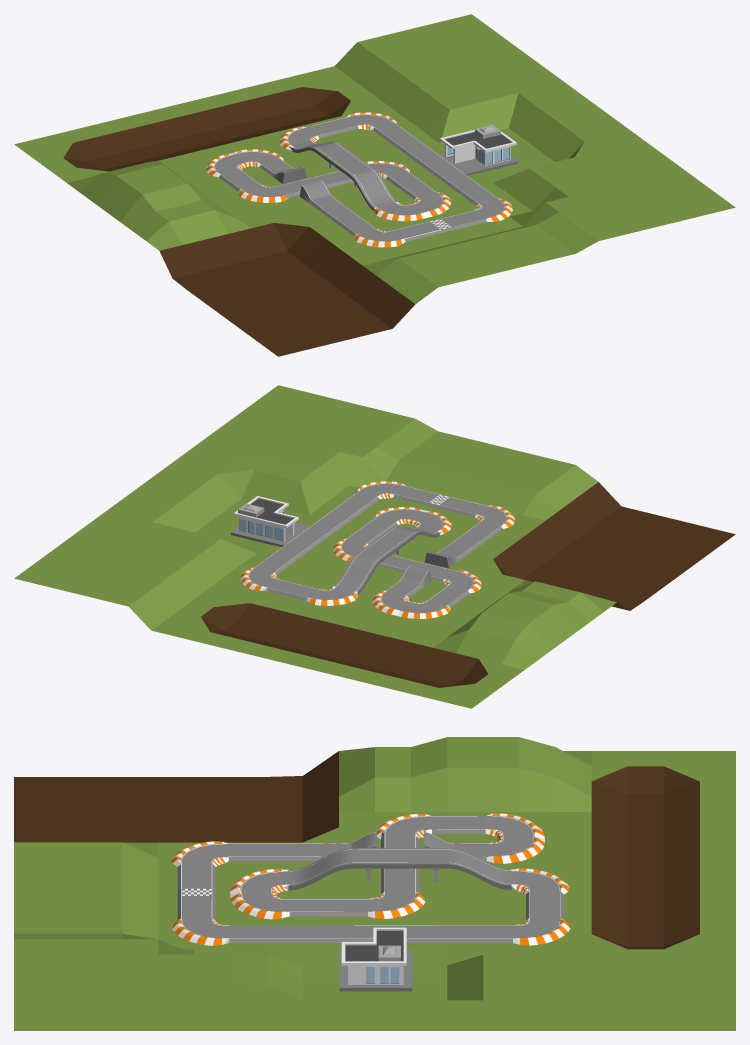
The model's file is tra.fbx.
The picture shows the model from 3 angles, top to bottom: view 1: azimuth 30°, elevation 25°; view 2: azimuth 150°, elevation 25°; view 3: azimuth 270°, elevation 25°; orthographic projection. The views are drawn at different scales.
Visible parts, largest first — view 1: terrain, track, police sttion; view 2: terrain, track, police sttion; view 3: terrain, track, police sttion.
Boxes of the visible parts, <box> form: terrain: <box>14,14,735,356</box>; track: <box>206,112,512,247</box>; police sttion: <box>439,124,518,175</box>; terrain: <box>14,385,735,708</box>; track: <box>240,481,514,618</box>; police sttion: <box>231,496,310,546</box>; terrain: <box>14,737,735,1030</box>; track: <box>171,813,570,945</box>; police sttion: <box>339,927,412,991</box>.
Bounding box in the file's own units: 1984 × 183 × 1984.
